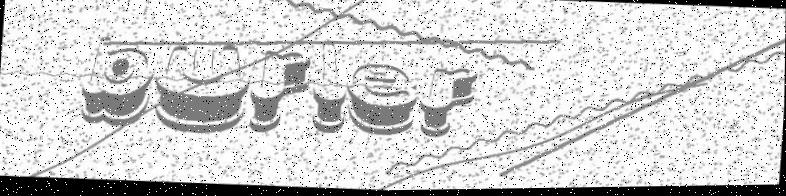b: (78, 34, 158, 129)
e: (344, 58, 420, 138)
l: (308, 40, 349, 136)
r: (248, 49, 312, 138), (417, 67, 479, 142)
u: (152, 44, 251, 138)
